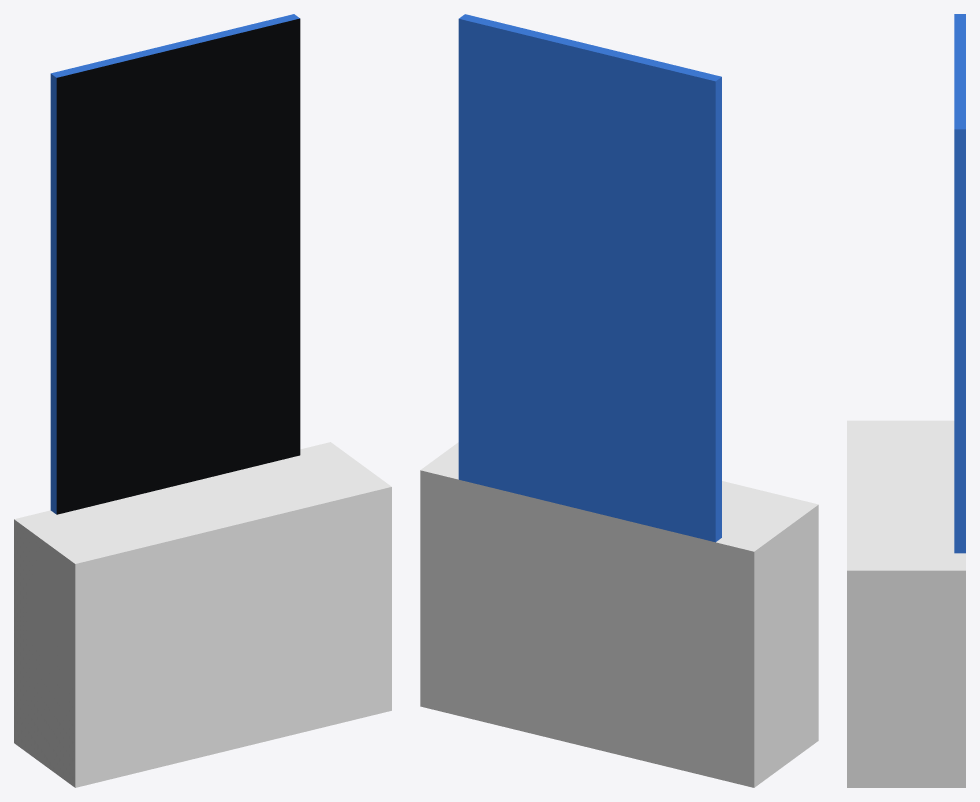
Rendered from facade-box.glb.
3 views of the same model, side by side, from view 1: azimuth 30°, elevation 25°; view 2: azimuth 150°, elevation 25°; view 3: azimuth 270°, elevation 25° (orthographic). The views are drawn at different scales.
Parts seen in each view (by area): view 1: facade-box; view 2: facade-box; view 3: facade-box.
Boxes of the visible parts, x1,y1,x2,y2 form: facade-box: (14,14,391,787); facade-box: (420,14,818,787); facade-box: (847,14,965,787).
Size of the model in its own units: 0.91 by 1.82 by 0.3048.
